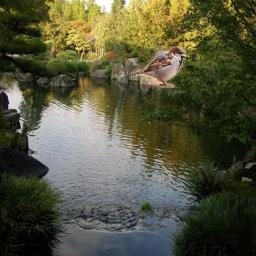Sparrow: (131, 46, 186, 88)
